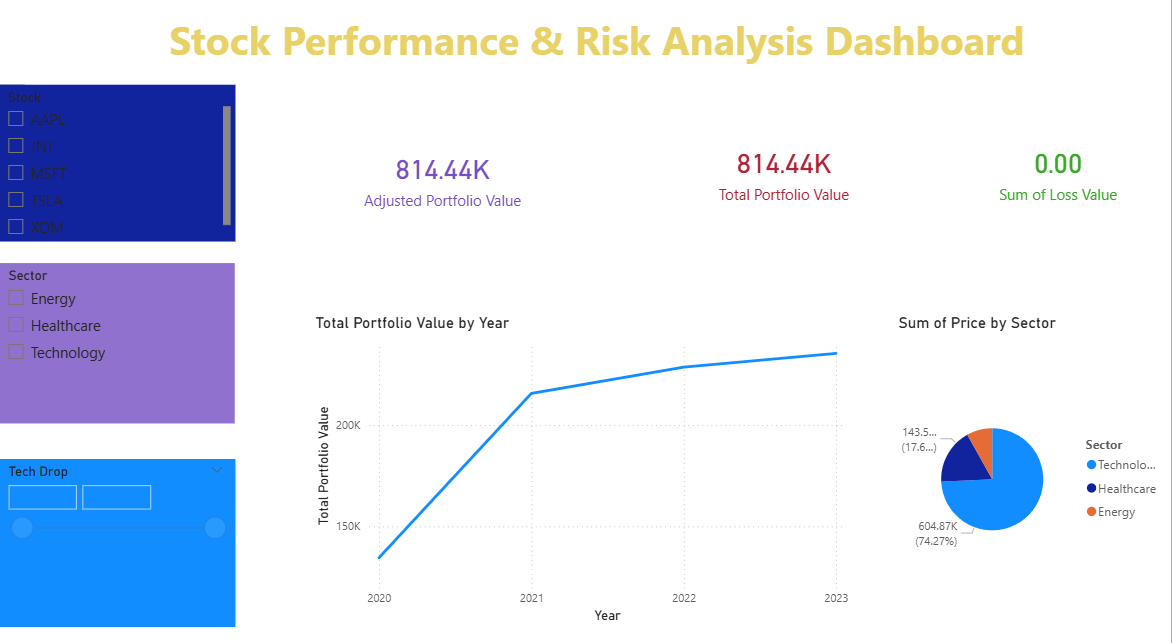

The page's visual inventory and layout, read from the dashboard file:
{"tool":"powerbi","page":{"name":"Page 1","canvas":[1280,720],"ordinal":0},"visuals":[{"type":"lineChart","fields":{"Category":["stock_data.Date.Variation.Date Hierarchy.Year","stock_data.Date.Variation.Date Hierarchy.Quarter","stock_data.Date.Variation.Date Hierarchy.Month","stock_data.Date.Variation.Date Hierarchy.Day"],"Y":["stock_data.Total Portfolio Value"]},"box":[350.1,354.5,585.7,339.1],"z":0},{"type":"pieChart","fields":{"Category":["stock_data.Sector"],"Y":["Sum(stock_data.Price)"]},"box":[979.9,354.5,299.5,339.1],"z":1000},{"type":"card","fields":{"Values":["Tech Drop.Adjusted Portfolio Value"]},"box":[343.9,154.4,298.2,108.8],"z":2000},{"type":"card","fields":{"Values":["stock_data.Total Portfolio Value"]},"box":[712.3,154.4,298.2,96.5],"z":3000},{"type":"slicer","fields":{"Values":["stock_data.Stock"]},"box":[10.2,107.6,257.9,169.1],"z":4000},{"type":"slicer","fields":{"Values":["stock_data.Sector"]},"box":[10.5,300,257.9,173.7],"z":5000},{"type":"textbox","box":[41.8,24.2,1237.5,83.7],"z":6000},{"type":"card","fields":{"Values":["Sum(stock_data.Loss Value)"]},"box":[1036.8,154.4,242.1,96.5],"z":7000},{"type":"slicer","fields":{"Values":["Tech Drop.Tech Drop"]},"box":[10.2,512.5,257.9,181.1],"z":8000}]}

Visuals, with their boxes in screenshot pixels (x1, y1, x2, y2), scaled from the page's 1280x720 canvas onto the 1173x643 screenshot:
lineChart - stock_data.Date.Variation.Date Hierarchy.Year x stock_data.Date.Variation.Date Hierarchy.Quarter: 321 317 858 619
pieChart - stock_data.Sector x Sum(stock_data.Price): 898 317 1172 619
card - Tech Drop.Adjusted Portfolio Value: 315 138 588 235
card - stock_data.Total Portfolio Value: 653 138 926 224
slicer - stock_data.Stock: 9 96 246 247
slicer - stock_data.Sector: 10 268 246 423
textbox: 38 22 1172 96
card - Sum(stock_data.Loss Value): 950 138 1172 224
slicer - Tech Drop.Tech Drop: 9 458 246 619
